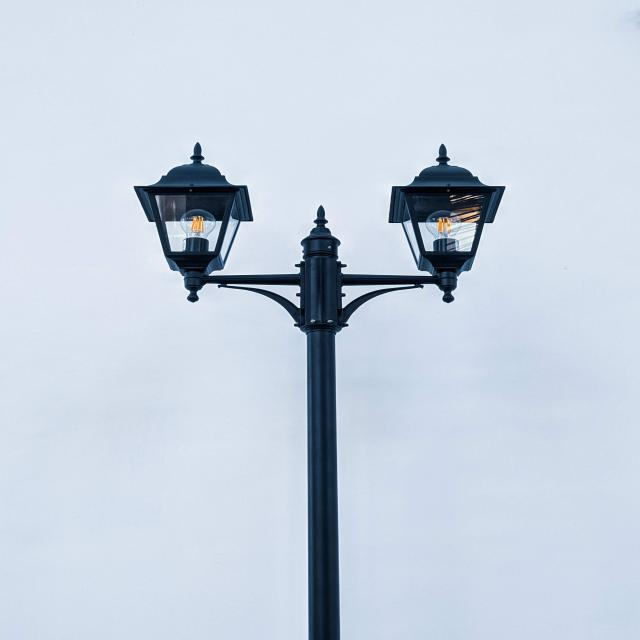Street Light: (134, 140, 506, 640)
